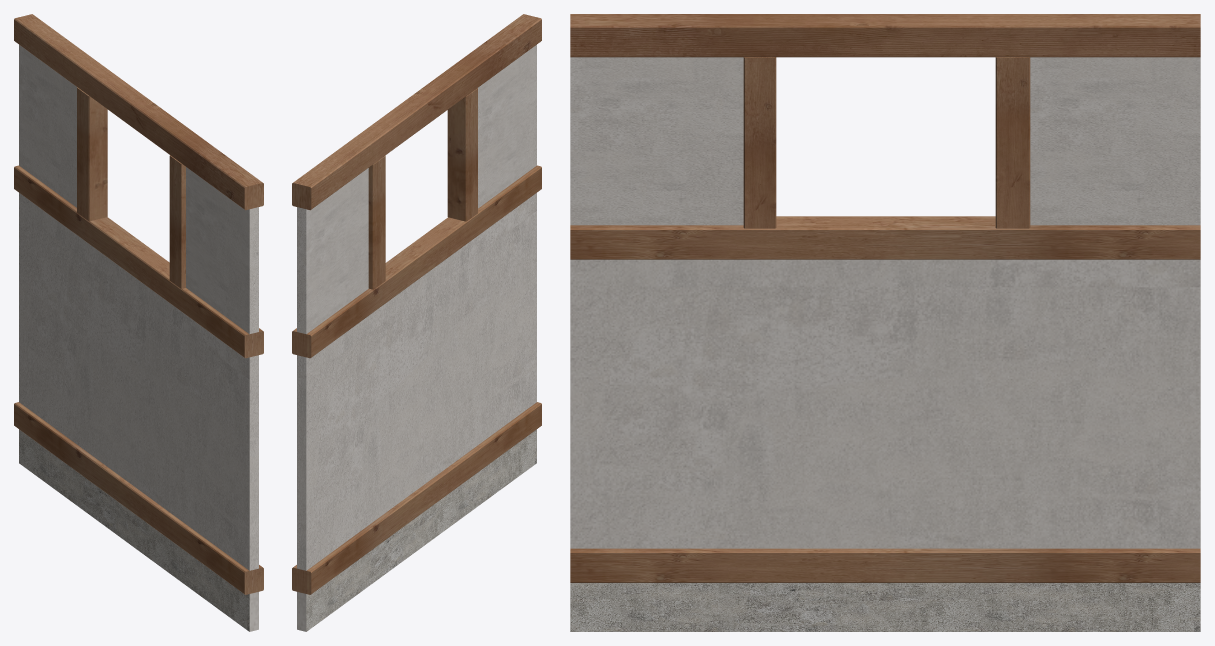
Rendered from SM_JSH_HG_WallA.fbx.
3 renders of one model, left to right at view 1: azimuth 30°, elevation 25°; view 2: azimuth 150°, elevation 25°; view 3: azimuth 270°, elevation 25°, orthographic. The views are drawn at different scales.
Parts seen in each view (by area): view 1: SM_JSH_HG_WallA; view 2: SM_JSH_HG_WallA; view 3: SM_JSH_HG_WallA.
Part boxes in pixels (<box>): SM_JSH_HG_WallA: <box>14,14,263,631</box>; SM_JSH_HG_WallA: <box>292,14,541,631</box>; SM_JSH_HG_WallA: <box>570,14,1200,631</box>.
Bounding box in the file's own units: 11.79 × 245 × 261.
1 material, 1 textured.
